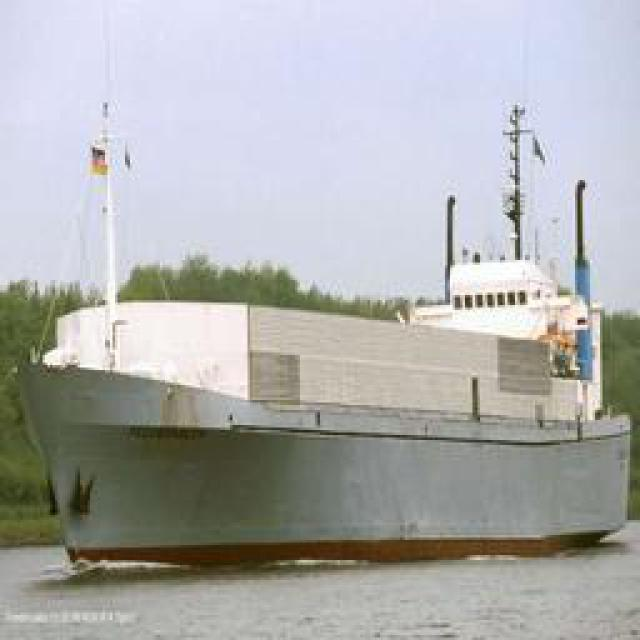Ship: (15, 173, 633, 571)
